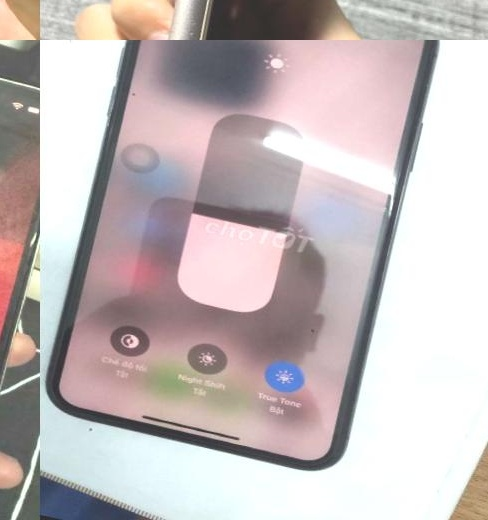scratch: (187, 29, 195, 36), (190, 19, 196, 25)
